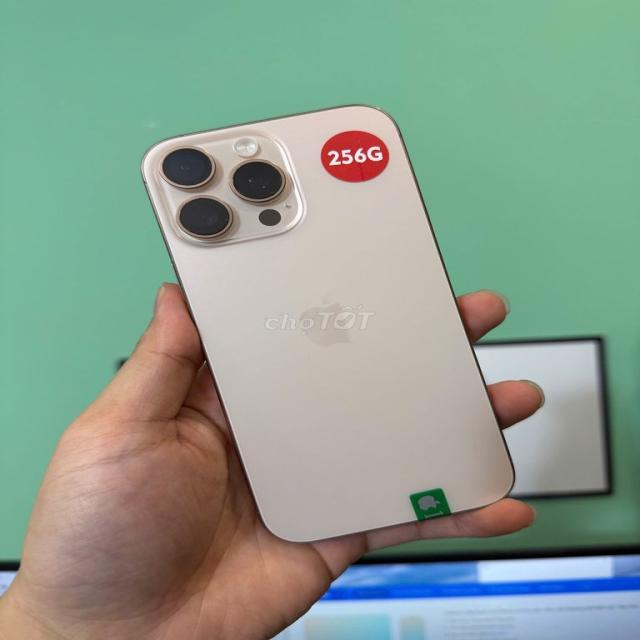gen_16: (142, 106, 513, 541)
